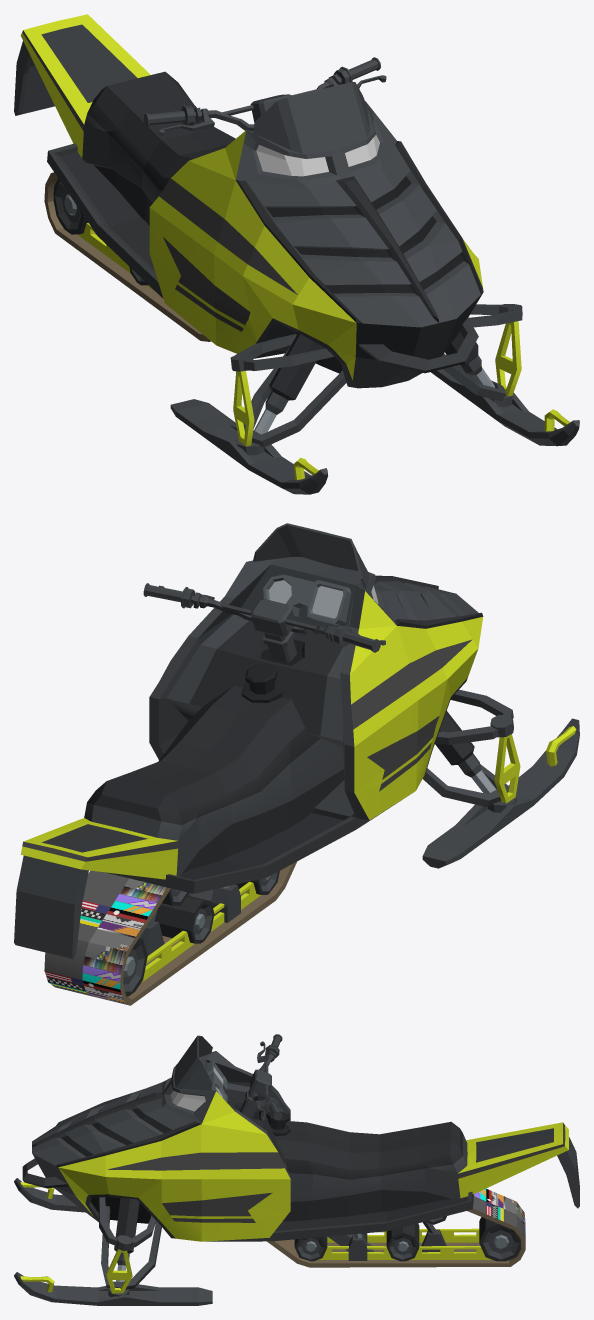
File: SM_Veh_Snowmobile_01.fbx
3 views of the same model, one above another, from view 1: azimuth 30°, elevation 25°; view 2: azimuth 150°, elevation 25°; view 3: azimuth 270°, elevation 25° (orthographic). The views are drawn at different scales.
Parts seen in each view (by area): view 1: SM_Veh_Snowmobile_01, SM_Veh_Snowmobile_Sled_R, SM_Veh_Snowmobile_Sled_L, SM_Veh_Snowmobile_Glass_01, SM_Veh_Snowmobile_HandleBars_01, SM_Veh_Snowmobile_Tread_01, SM_Veh_Snowmobile_Tread_Suspension_01; view 2: SM_Veh_Snowmobile_01, SM_Veh_Snowmobile_Sled_R, SM_Veh_Snowmobile_Tread_01, SM_Veh_Snowmobile_Tread_Suspension_01, SM_Veh_Snowmobile_HandleBars_01, SM_Veh_Snowmobile_Glass_01; view 3: SM_Veh_Snowmobile_01, SM_Veh_Snowmobile_Sled_L, SM_Veh_Snowmobile_Tread_Suspension_01, SM_Veh_Snowmobile_Tread_01, SM_Veh_Snowmobile_HandleBars_01, SM_Veh_Snowmobile_Glass_01, SM_Veh_Snowmobile_Sled_R.
Part boxes in pixels (x1,y1,x2,y2): SM_Veh_Snowmobile_01: (14,14,483,388); SM_Veh_Snowmobile_Sled_R: (170,333,346,494); SM_Veh_Snowmobile_Sled_L: (431,304,579,446); SM_Veh_Snowmobile_Glass_01: (253,82,369,153); SM_Veh_Snowmobile_HandleBars_01: (143,57,386,136); SM_Veh_Snowmobile_Tread_01: (44,172,210,341); SM_Veh_Snowmobile_Tread_Suspension_01: (53,178,156,292); SM_Veh_Snowmobile_01: (14,557,483,959); SM_Veh_Snowmobile_Sled_R: (422,689,579,868); SM_Veh_Snowmobile_Tread_01: (44,861,296,1005); SM_Veh_Snowmobile_Tread_Suspension_01: (123,871,279,996); SM_Veh_Snowmobile_HandleBars_01: (143,583,385,662); SM_Veh_Snowmobile_Glass_01: (253,523,369,588); SM_Veh_Snowmobile_01: (22,1051,579,1241); SM_Veh_Snowmobile_Sled_L: (14,1197,212,1305); SM_Veh_Snowmobile_Tread_Suspension_01: (294,1216,520,1261); SM_Veh_Snowmobile_Tread_01: (267,1188,525,1267); SM_Veh_Snowmobile_HandleBars_01: (240,1034,282,1120); SM_Veh_Snowmobile_Glass_01: (174,1035,212,1090); SM_Veh_Snowmobile_Sled_R: (14,1178,85,1212).
Size of the model in its own units: 129 by 133 by 314.
